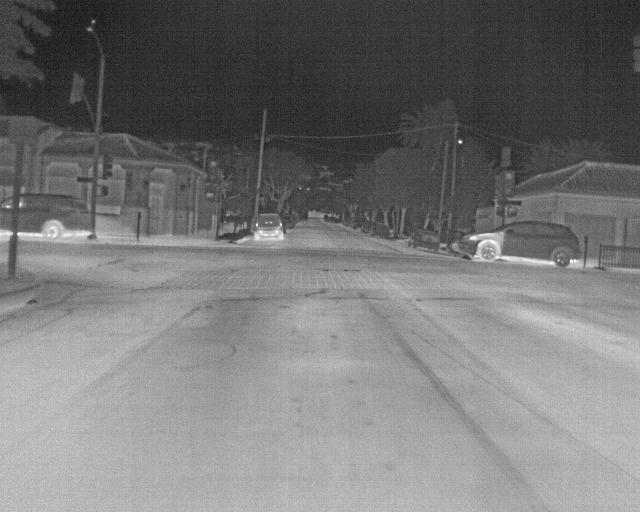car: (459, 219, 583, 270), (21, 191, 91, 242), (252, 212, 286, 243), (408, 228, 441, 252), (0, 194, 14, 232)
